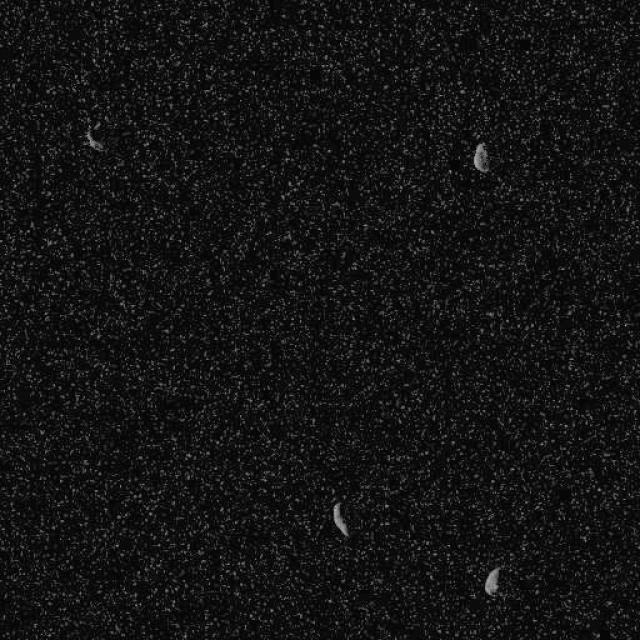D2: (82, 121, 106, 152), (331, 500, 350, 538), (482, 565, 500, 596), (472, 142, 490, 172)
